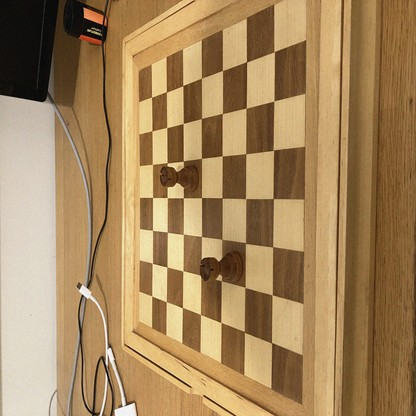rock_black: (199, 254, 243, 284), (160, 165, 198, 190)
